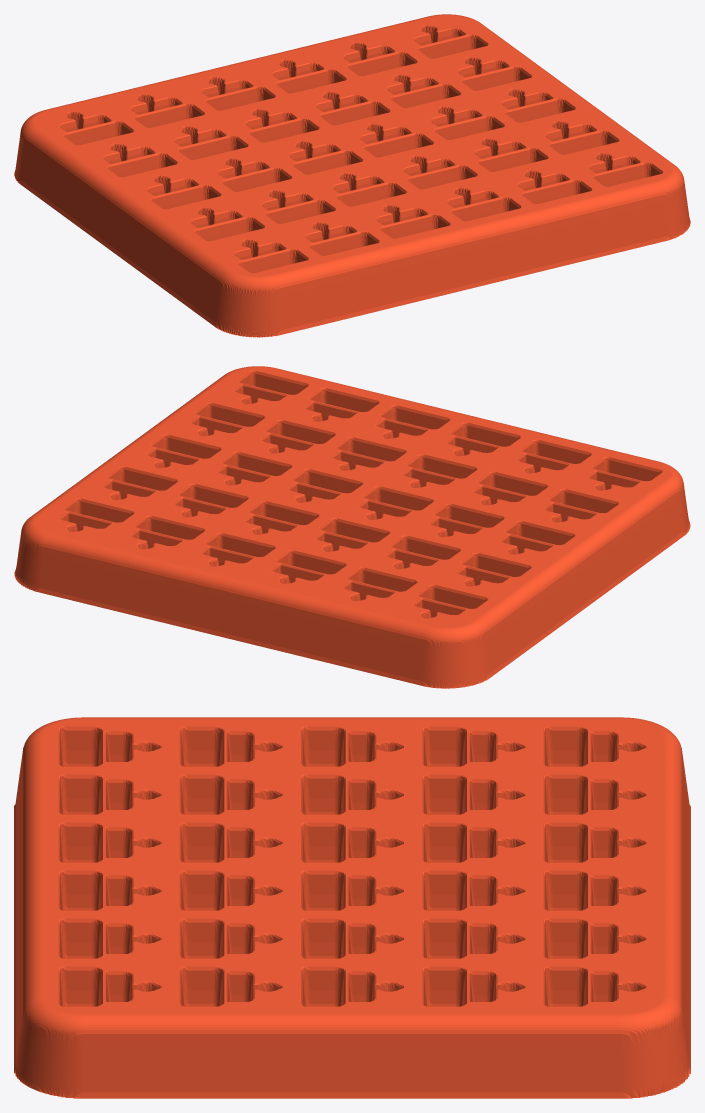
Rendered from mold.glb.
3 views of the same model, one above another, from view 1: azimuth 30°, elevation 25°; view 2: azimuth 150°, elevation 25°; view 3: azimuth 270°, elevation 25° (orthographic). The views are drawn at different scales.
Visible parts, largest first — view 1: geometry_0; view 2: geometry_0; view 3: geometry_0.
Part boxes in pixels (x1,y1,x2,y2): geometry_0: [14, 14, 690, 337]; geometry_0: [14, 366, 690, 688]; geometry_0: [14, 717, 690, 1098].
Bounding box in the file's own units: 0.098 × 0.0105 × 0.0882.
